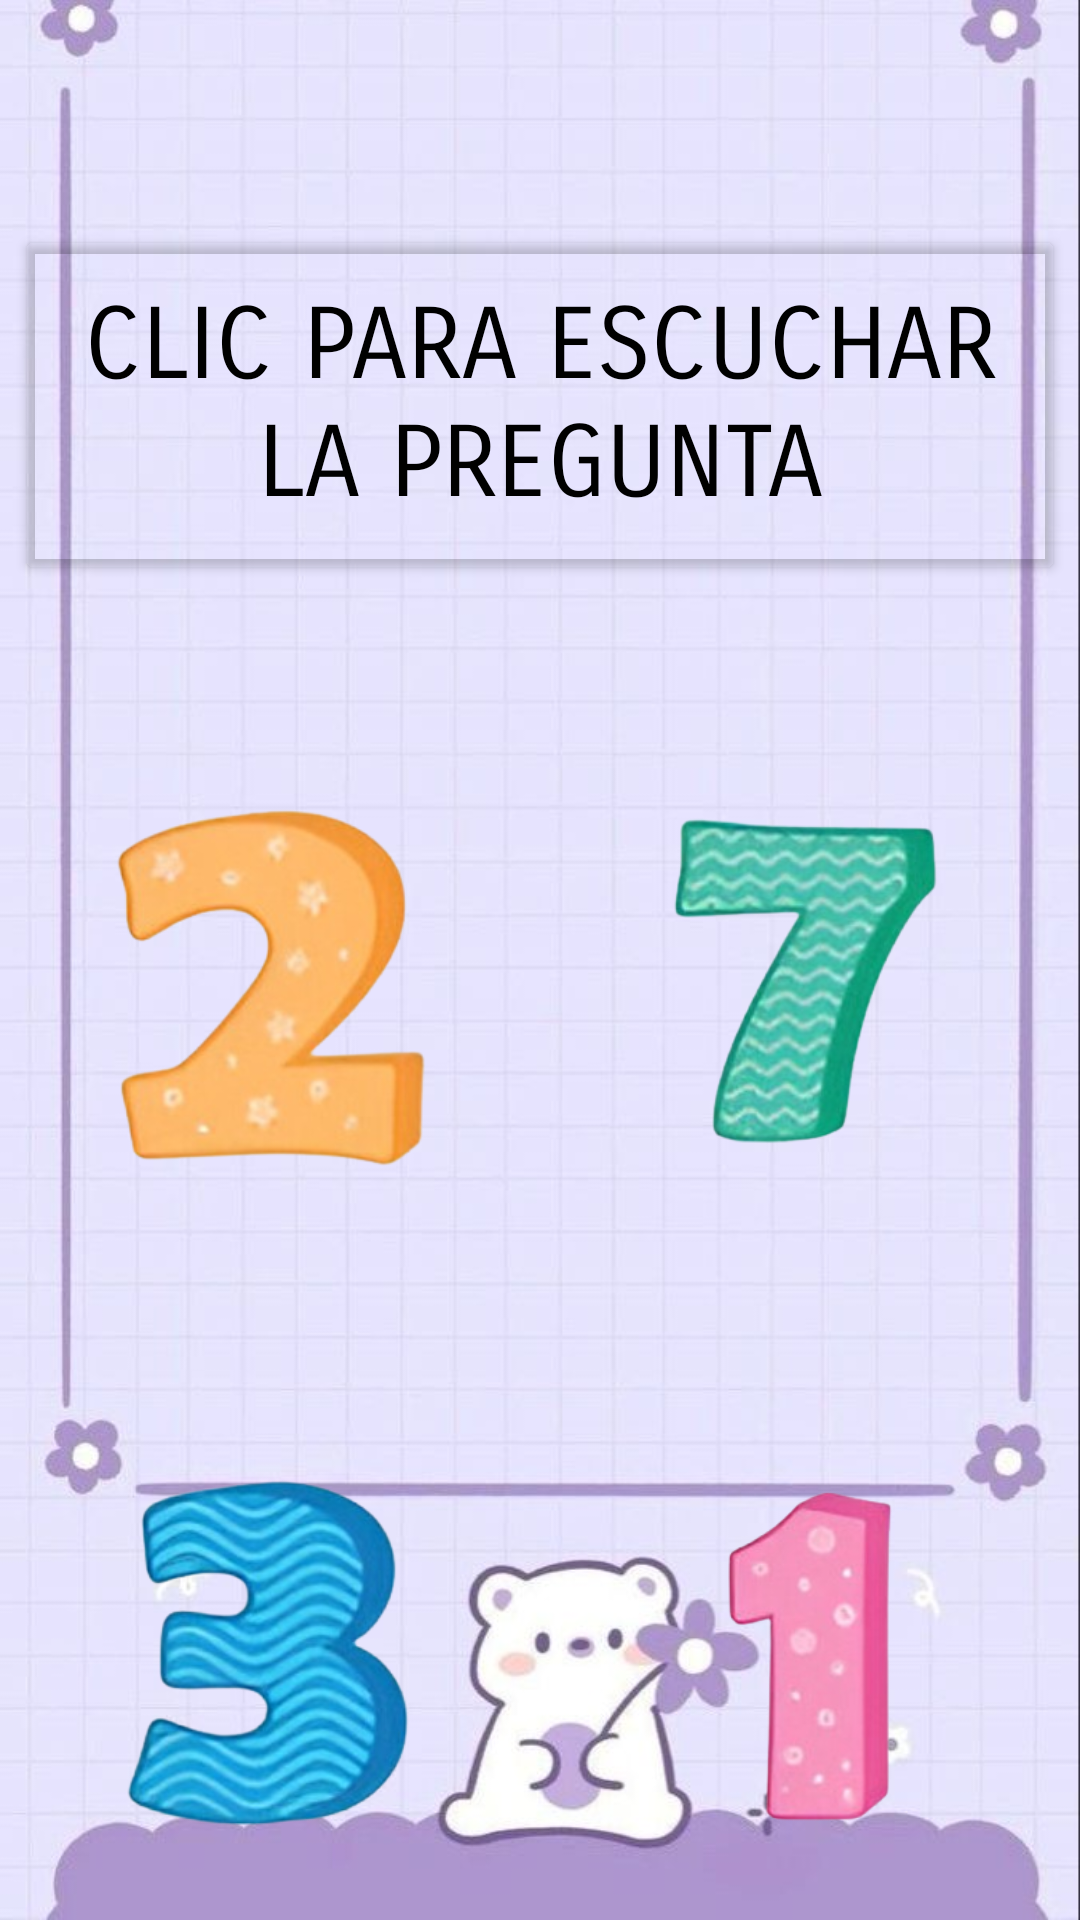

Locate icon controls on the screen. Image size 1080px x 1920px, boxes as (x1, y1, x2, y2).
dos: (117, 810, 425, 1165)
siete: (674, 820, 936, 1143)
